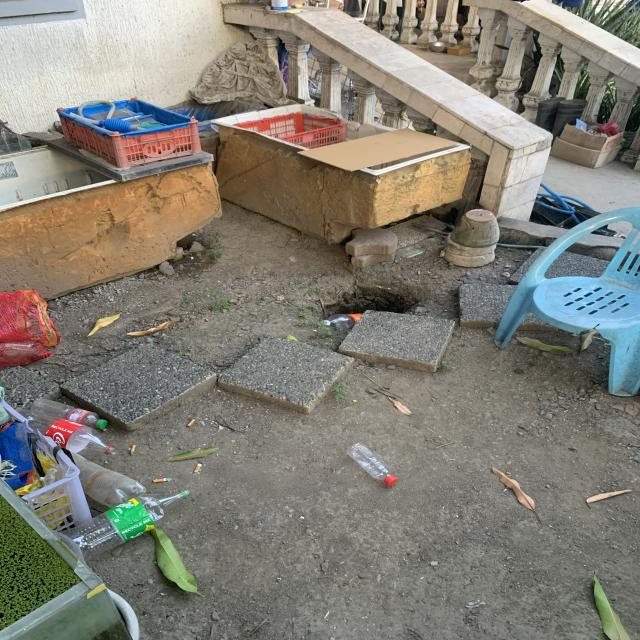Bottle: (347, 443, 397, 486)
